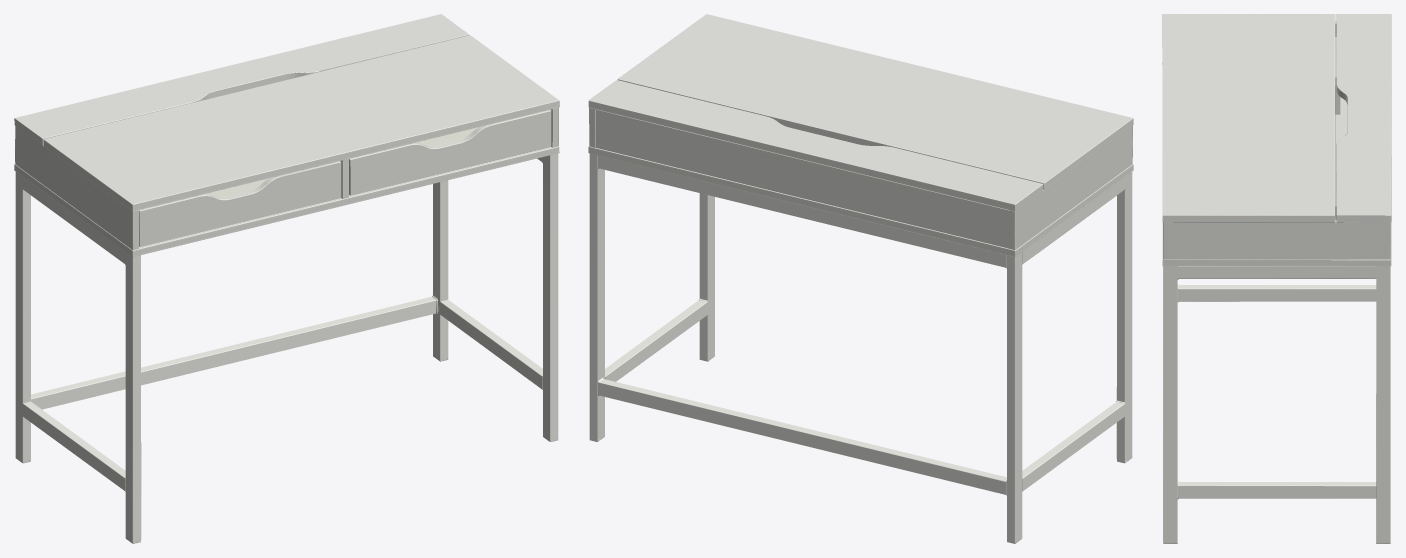
Rendered from ALEX_10473555.glb.
3 views of the same model, side by side, from view 1: azimuth 30°, elevation 25°; view 2: azimuth 150°, elevation 25°; view 3: azimuth 270°, elevation 25° (orthographic). The views are drawn at different scales.
Visible parts, largest first — view 1: 10473555-ALEX001; view 2: 10473555-ALEX001; view 3: 10473555-ALEX001.
Part boxes in pixels (box(x1,y1,x2,y2)): 10473555-ALEX001: box(14, 14, 559, 543); 10473555-ALEX001: box(588, 14, 1133, 543); 10473555-ALEX001: box(1162, 14, 1391, 543).
Size of the model in its own units: 1 by 0.7611 by 0.4801.
Materials: 1 (1 with a texture image).
